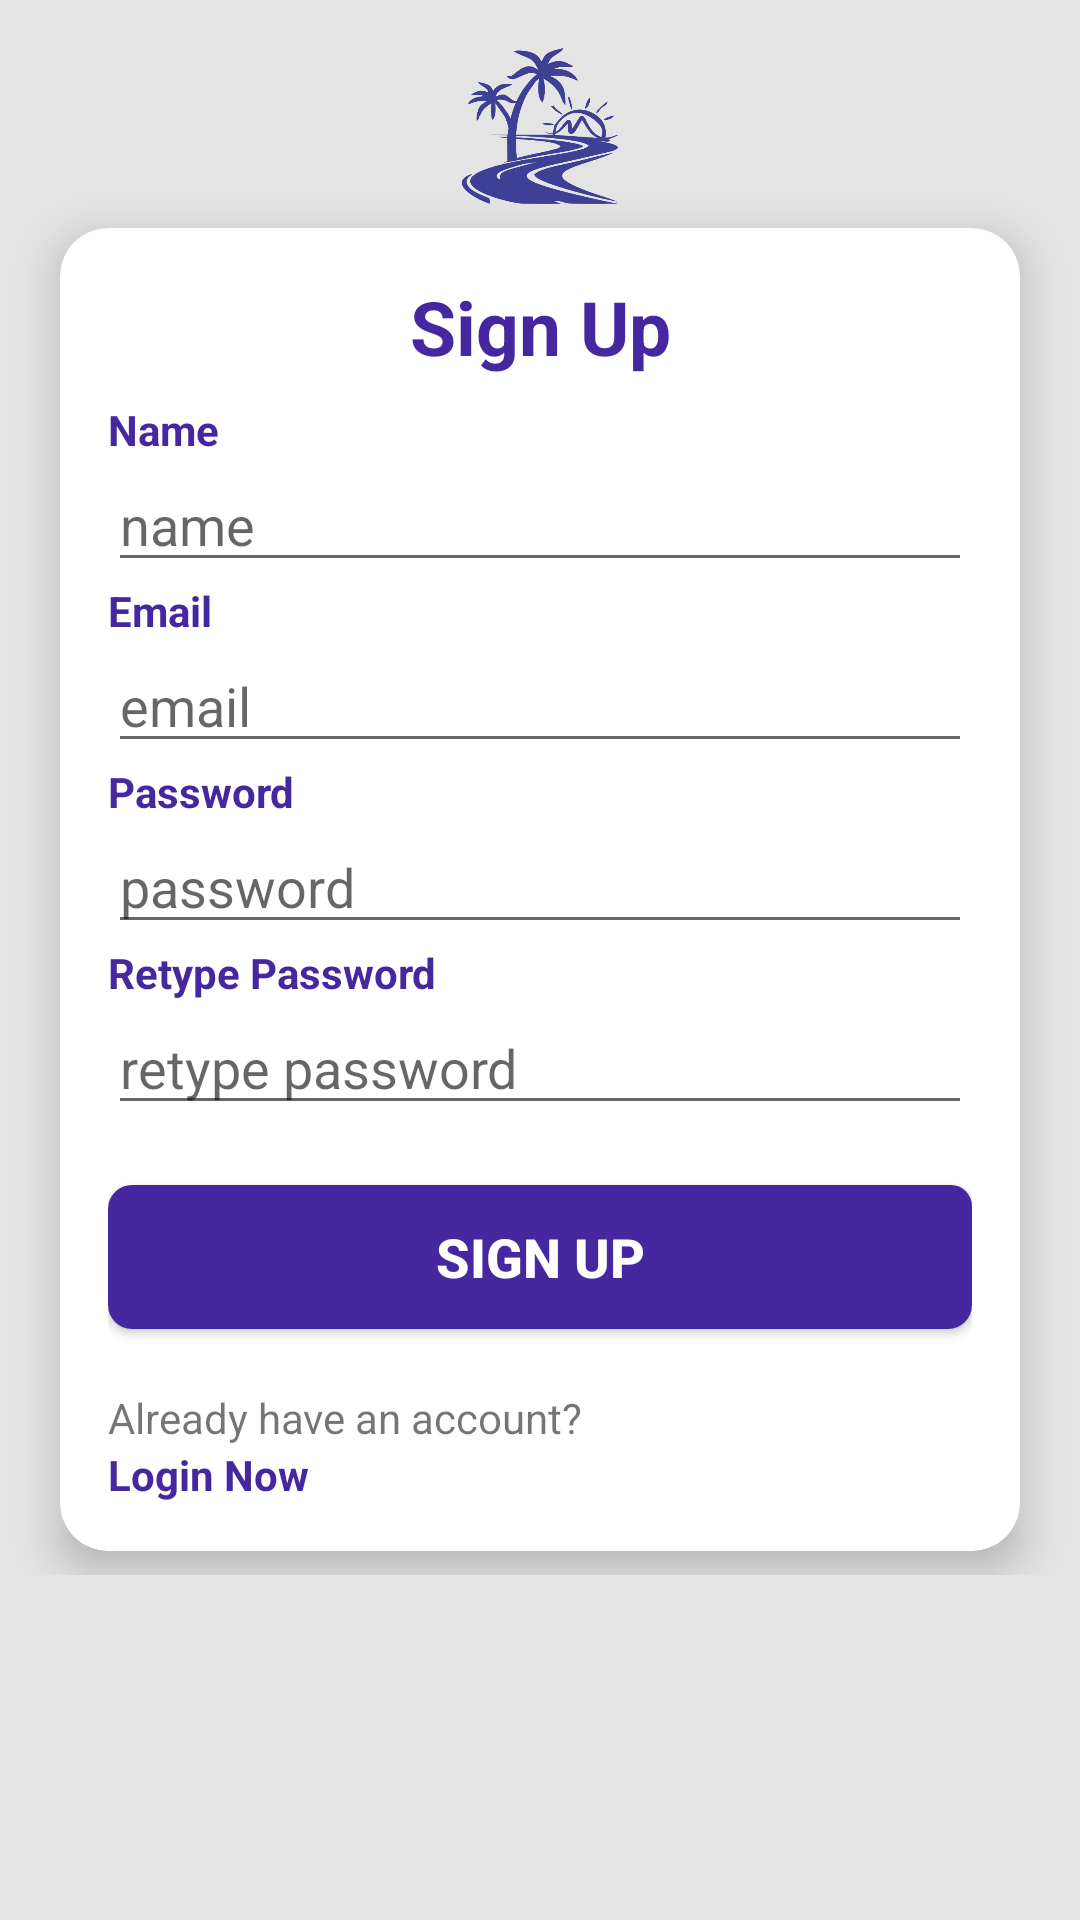

Locate icon controls on the screen. Image size 1080px×1920px, boxes as bbox=(x1, y1, x2, y2).
tourmate: bbox=(462, 48, 618, 204)
